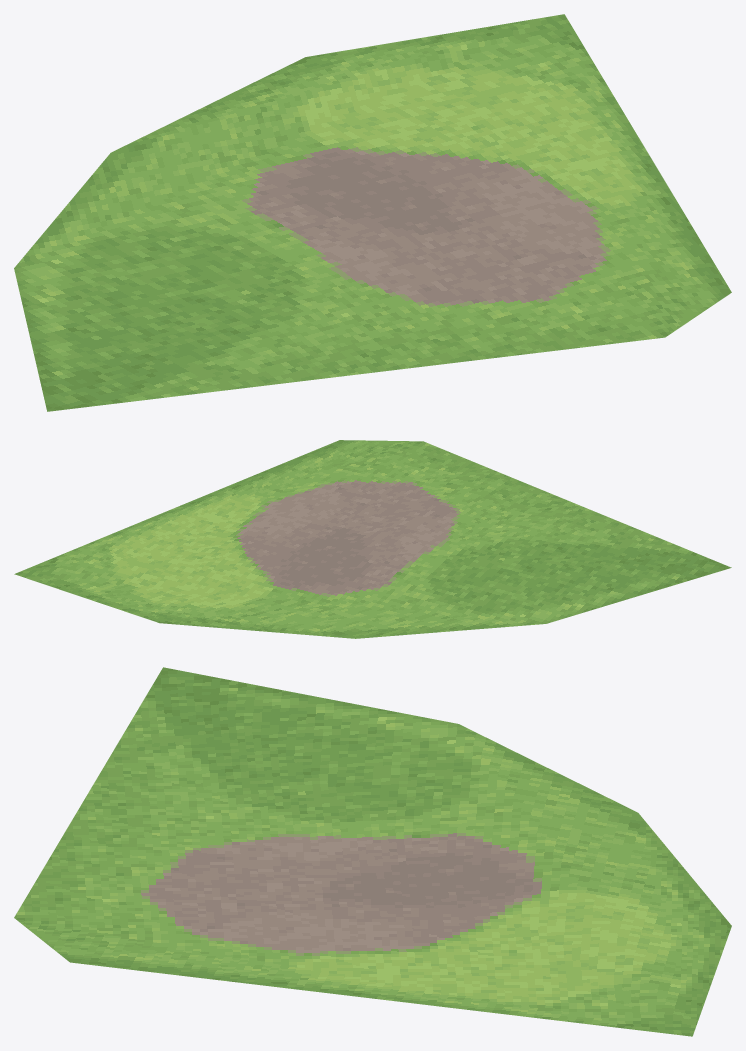
Rendered from kd_stage_1366d7_3_14.glb.
The picture shows the model from 3 angles, top to bottom: view 1: azimuth 30°, elevation 25°; view 2: azimuth 150°, elevation 25°; view 3: azimuth 270°, elevation 25°; orthographic projection. The views are drawn at different scales.
Parts seen in each view (by area): view 1: kd_stage_1366d7_3_14; view 2: kd_stage_1366d7_3_14; view 3: kd_stage_1366d7_3_14.
Boxes of the visible parts, <box> form: kd_stage_1366d7_3_14: <box>14,14,731,411</box>; kd_stage_1366d7_3_14: <box>14,440,731,638</box>; kd_stage_1366d7_3_14: <box>14,667,731,1036</box>.
Size of the model in its own units: 119 by 0 by 97.93.
1 material, 1 textured.
